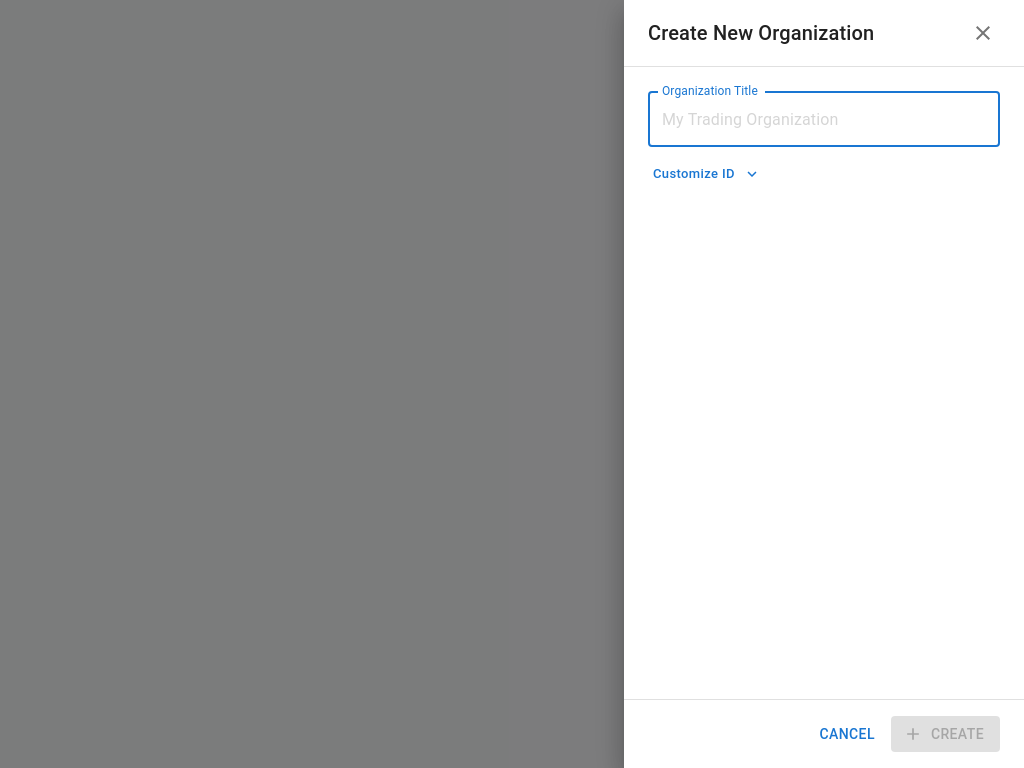
Test: CreateOrganizationDrawer › validation › shows error for ID with consecutive hyphens
Note: Enter a title first
Type "My Organization" into the field labelled "Organization Title".
click(824, 119); type("My Organization")  # box [648,91,1000,147]
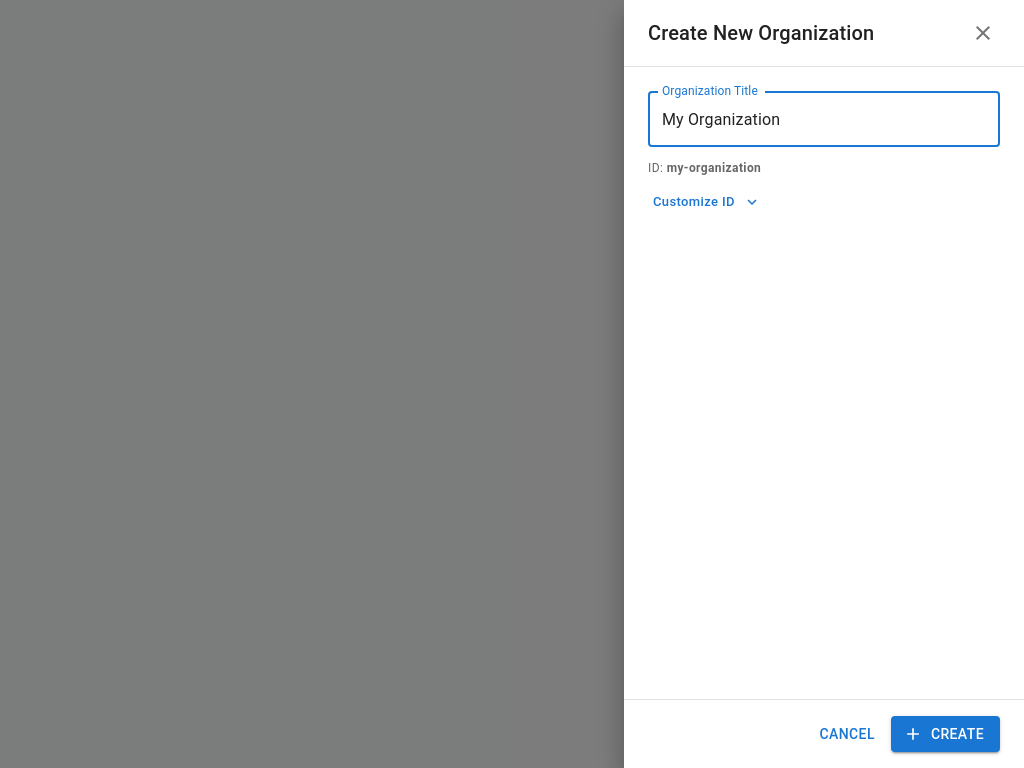
Note: Open advanced section
Click the button "Customize ID".
click(706, 202)  # box [648,187,764,218]
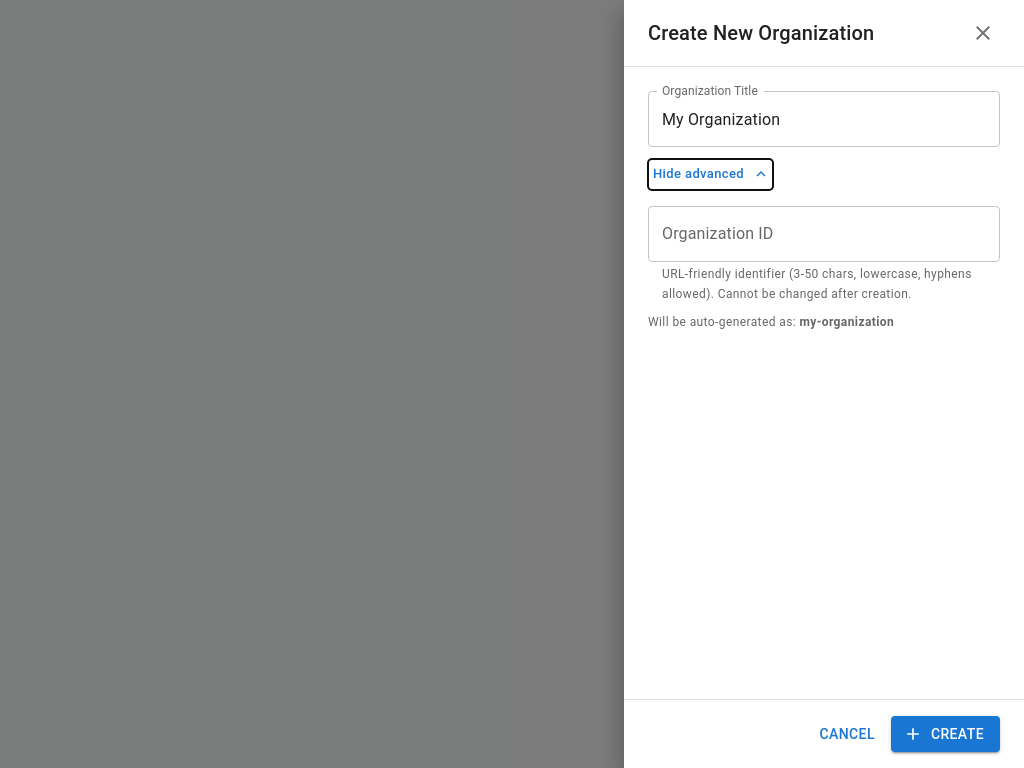
Note: Enter ID with consecutive hyphens
Type "my--id" into the field labelled "Organization ID".
click(824, 234); type("my--id")  # box [648,206,1000,262]
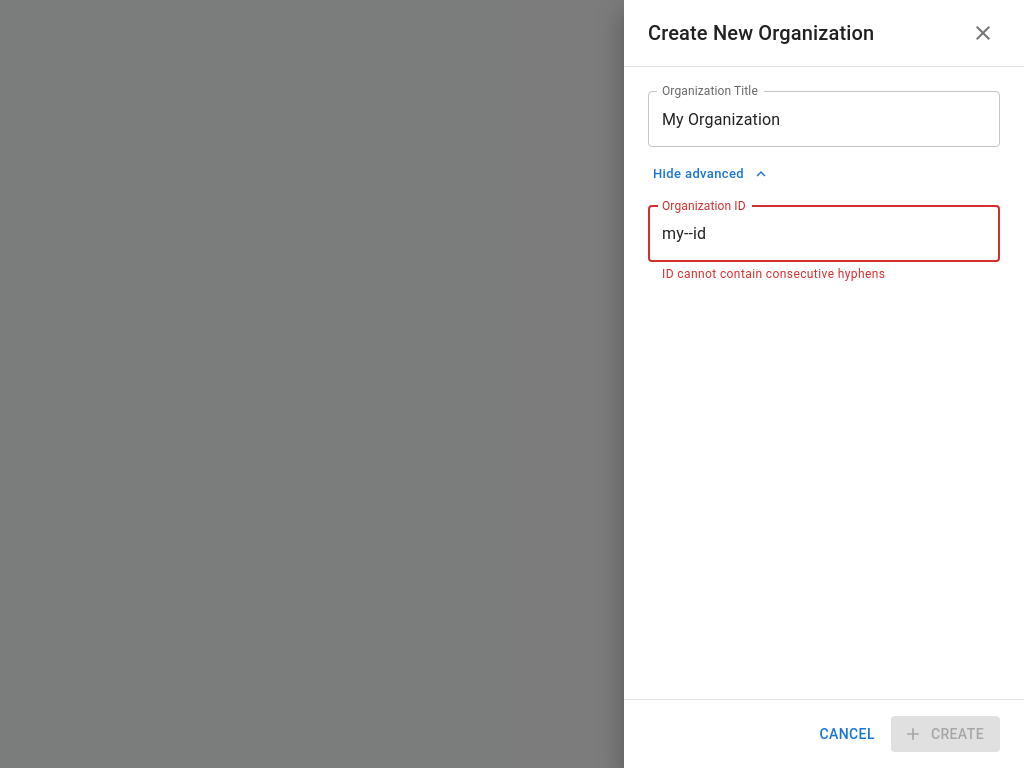
Expected: the text "ID cannot contain consecutive hyphens" is shown, [662,267,885,281]
